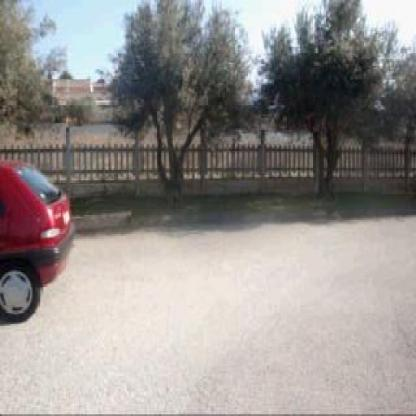other: (2, 148, 79, 329)
